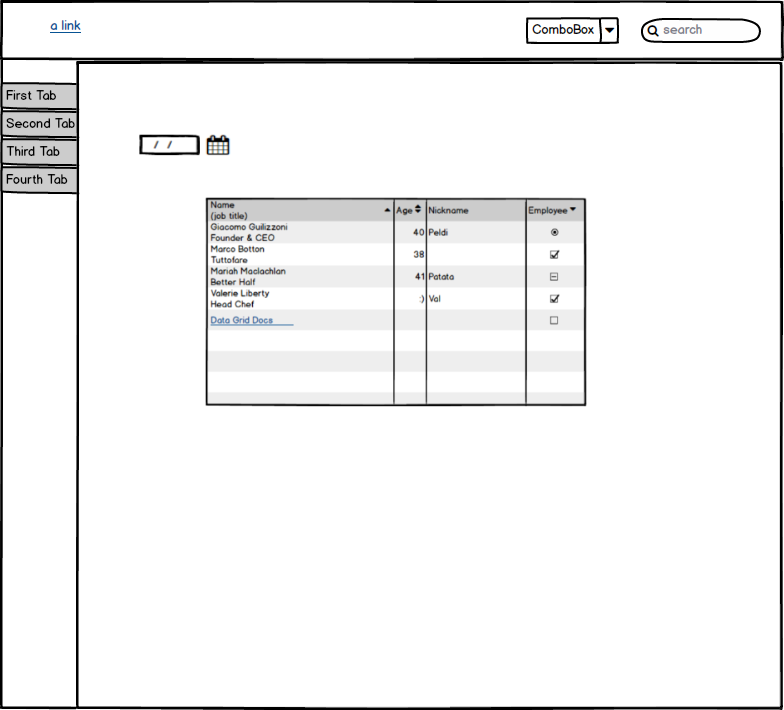date_picker: (133, 129, 235, 160)
navlink: (42, 16, 89, 38)
search: (637, 15, 764, 47)
select_box: (521, 13, 624, 47)
sidebar: (3, 74, 84, 211)
table: (197, 190, 594, 410)
